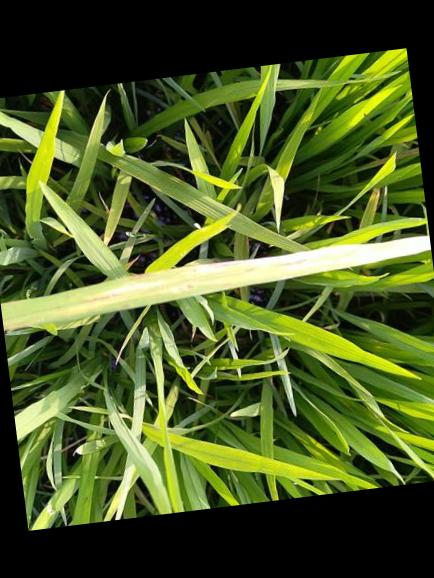Leaf Streak: (0, 233, 431, 330)
